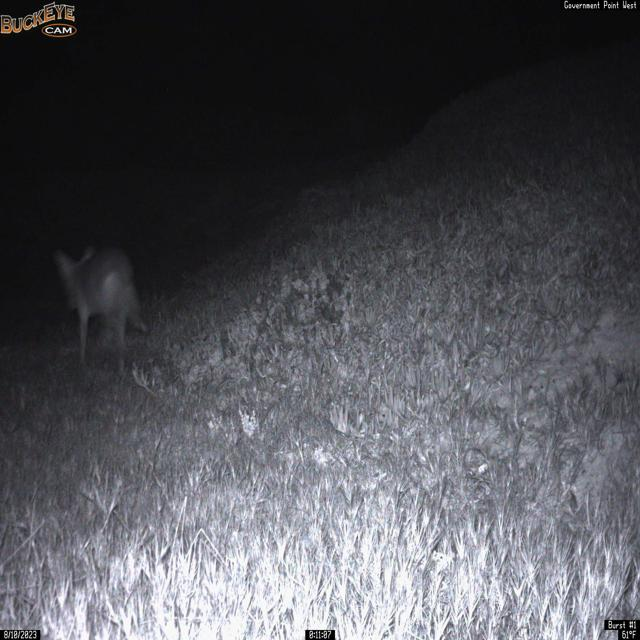coyote: (53, 244, 150, 375)
